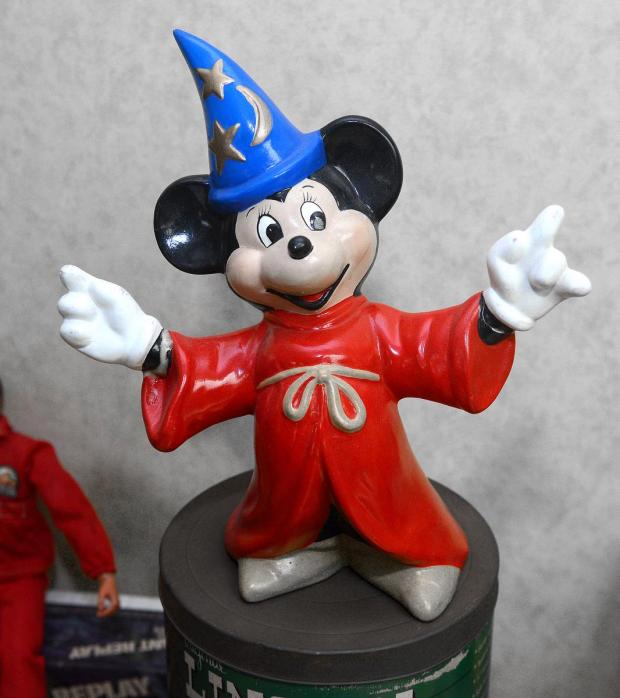Mickey: (147, 112, 409, 318)
